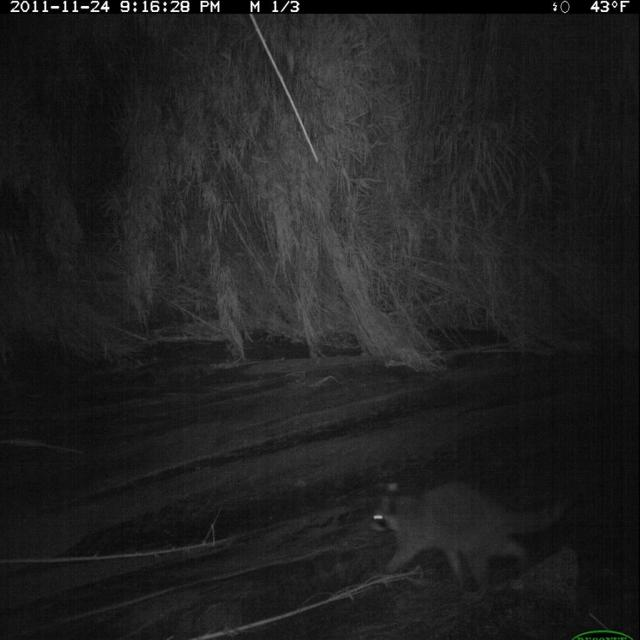raccoon: (366, 475, 579, 605)
